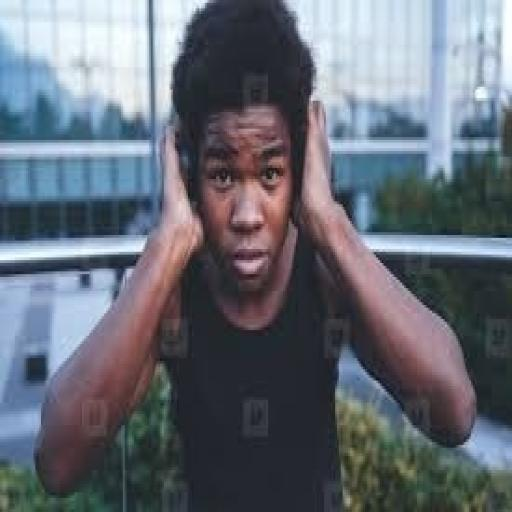listening_to_music: (32, 0, 480, 509)
